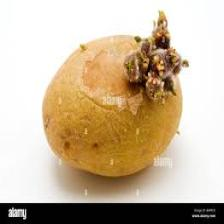Bud: (121, 9, 190, 110)
Sprouted potato: (33, 6, 190, 191)
